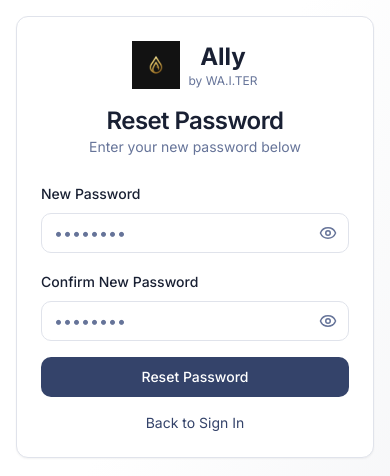
Scenario: ResetPassword › Successful Reset › updates password and shows success message
In the password field labelled "New Password": (195, 233) [41,213,349,253], type "newpassword123"
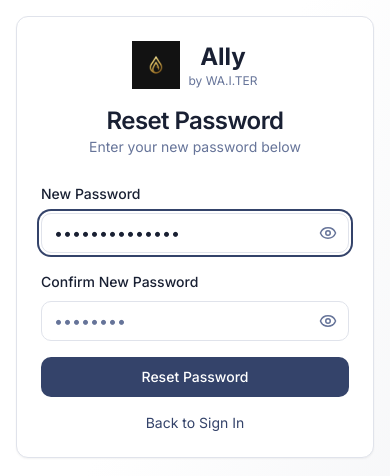
In the password field labelled "Confirm New Password": (195, 321) [41,301,349,341], type "newpassword123"
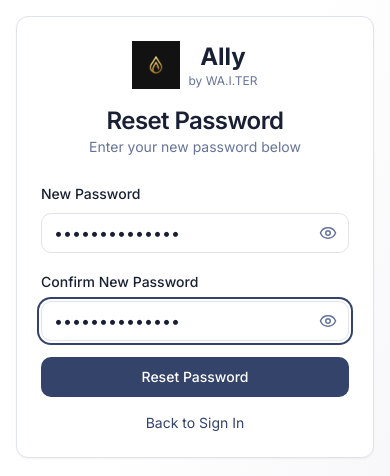
Click the button "Reset Password": (195, 377) [41,357,349,397]
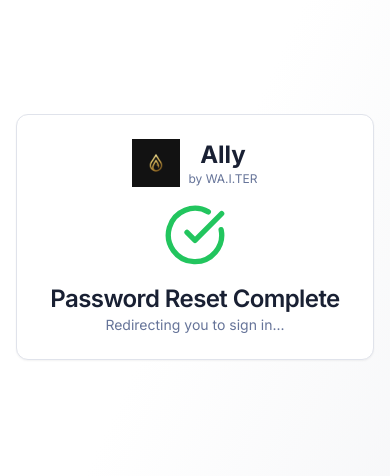
Check: the heading "Password Reset Complete" is shown, box [41,283,349,315]
